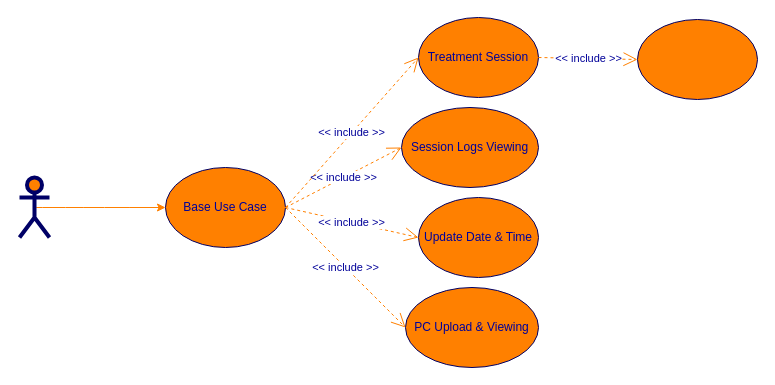
Some shapes in this 775 by 385 pixel diagram are drawn without their labels. The centre of each missing label's shape, as x and y in pixels:
Treatment Round: point 697,59
User: point 34,207
